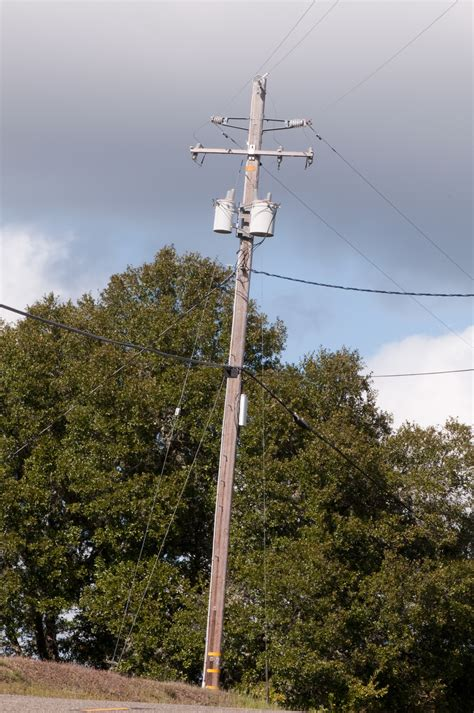pole: (183, 64, 325, 685)
